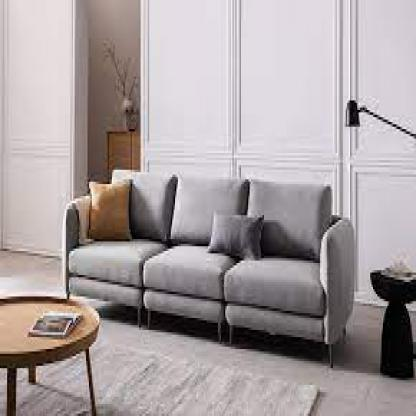sofa: (64, 167, 362, 330)
